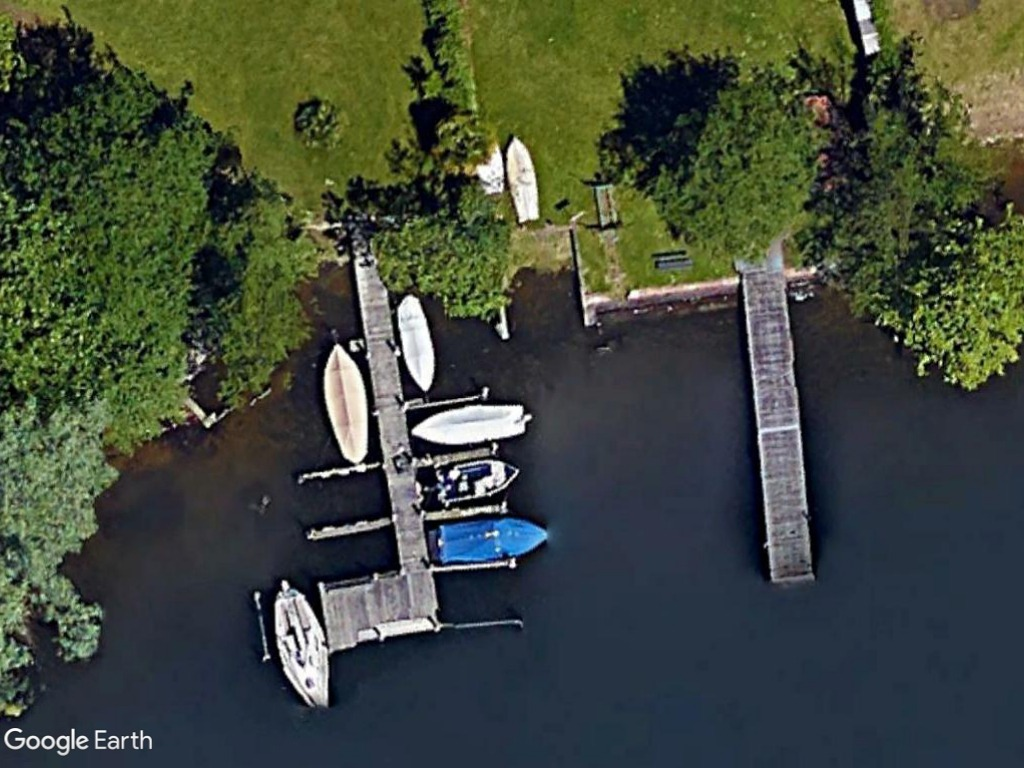boat: (271, 573, 336, 712), (316, 340, 377, 468), (424, 517, 551, 568), (406, 397, 527, 450), (391, 289, 439, 395), (503, 130, 543, 228)
